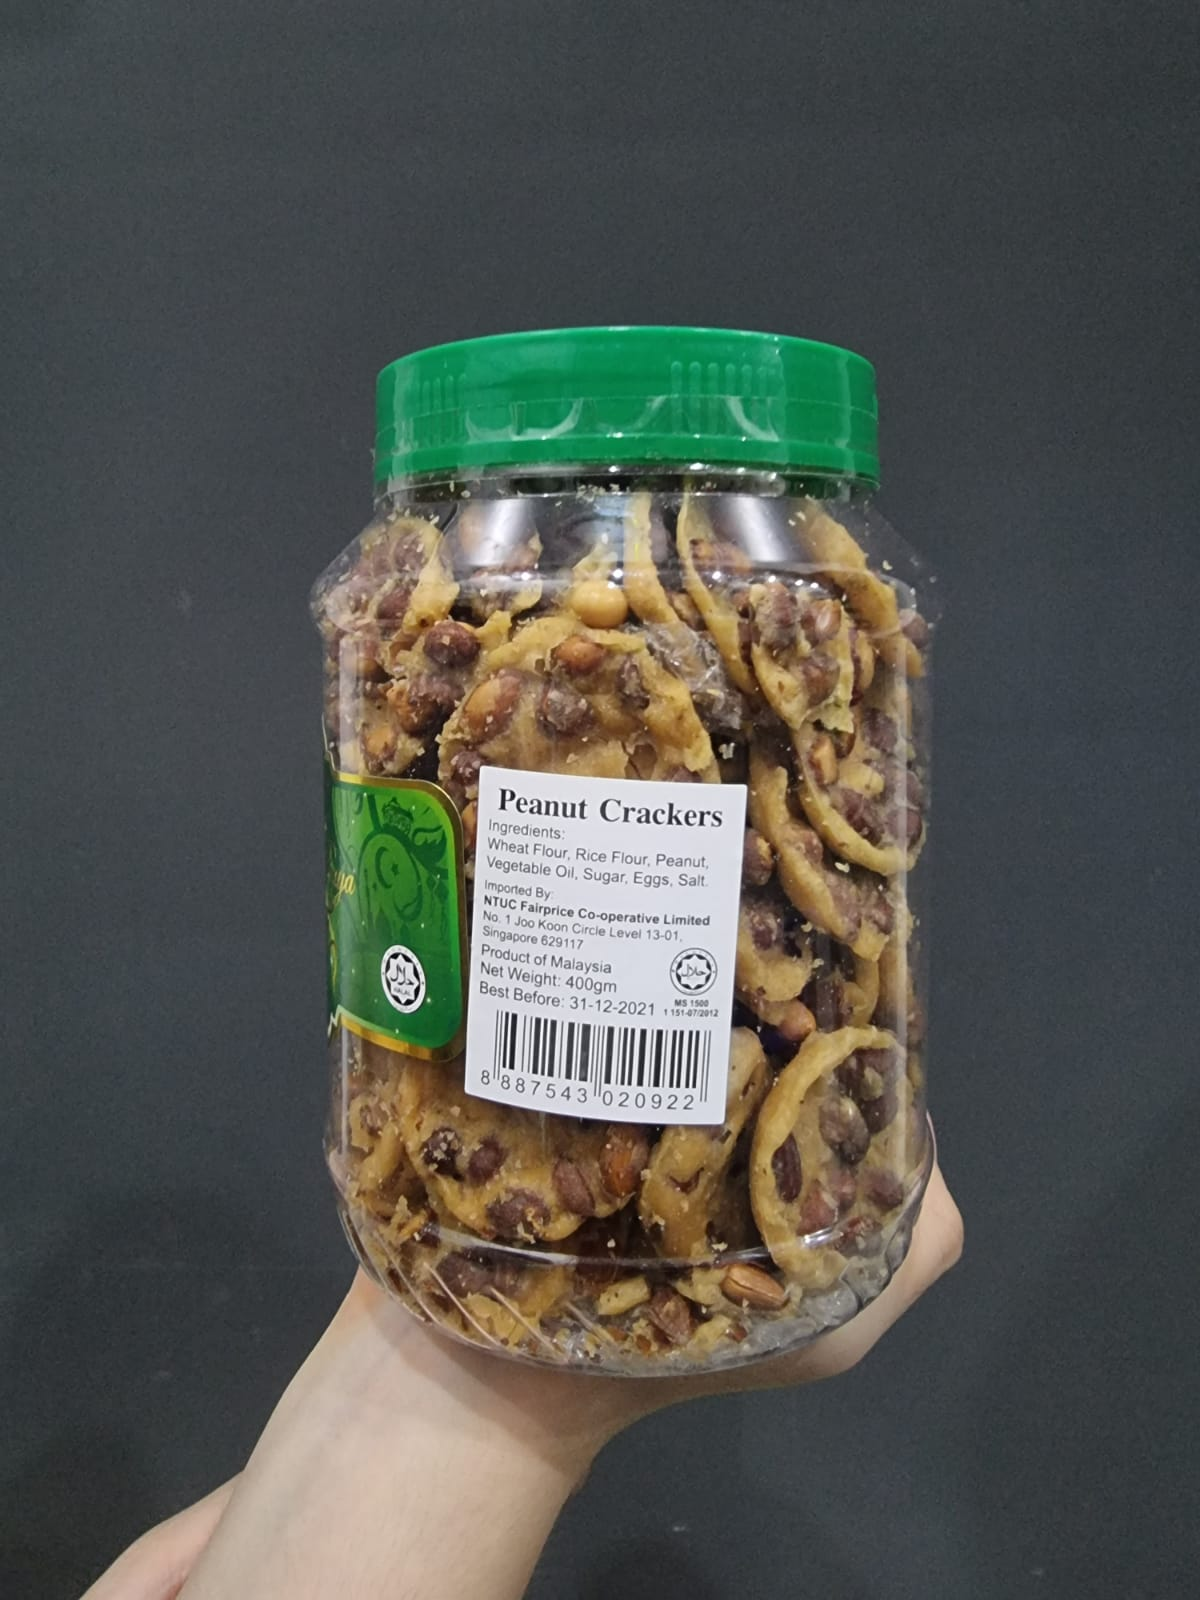Halal: (668, 945, 716, 993)
